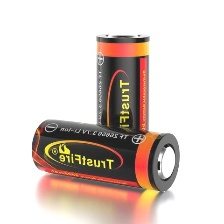battery: (26, 113, 184, 194), (93, 28, 153, 178)
